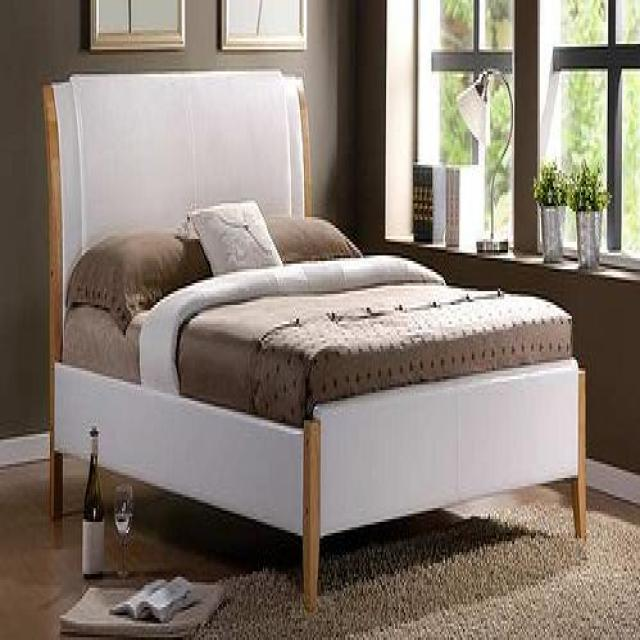bed: (39, 68, 588, 616)
